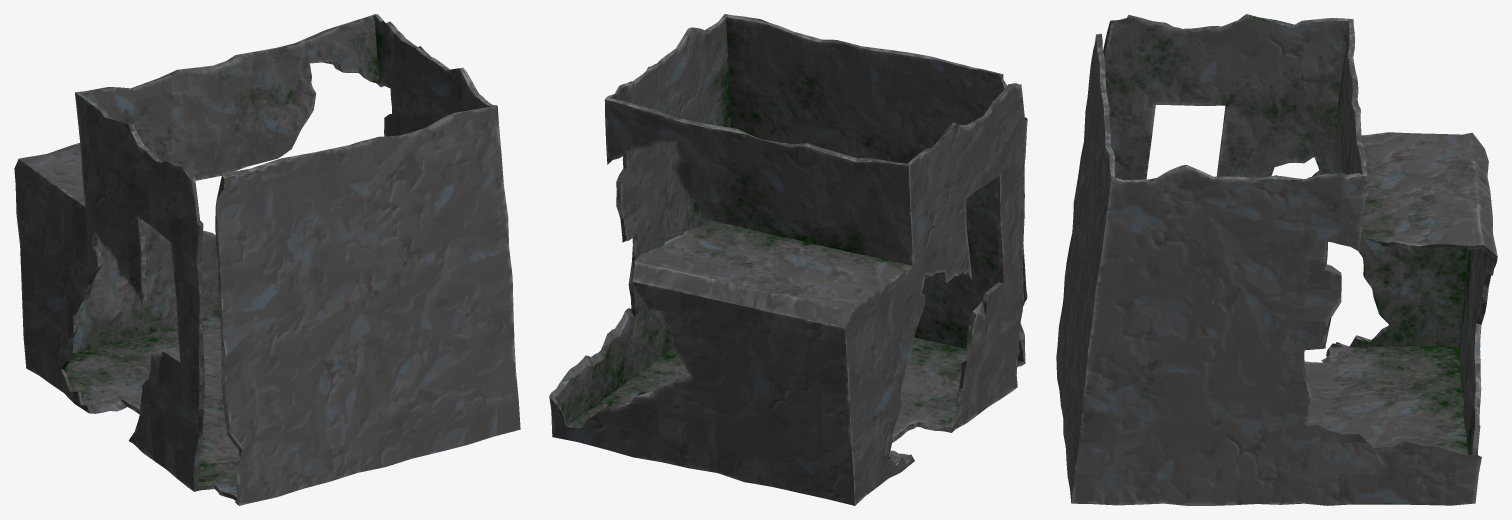
The model's file is Ruin2.fbx.
3 renders of one model, left to right at view 1: azimuth 30°, elevation 25°; view 2: azimuth 150°, elevation 25°; view 3: azimuth 270°, elevation 25°, orthographic. The views are drawn at different scales.
Parts seen in each view (by area): view 1: Ruin 2; view 2: Ruin 2; view 3: Ruin 2.
Boxes of the visible parts, bbox=[...] form: Ruin 2: bbox=[14, 14, 520, 505]; Ruin 2: bbox=[549, 14, 1027, 505]; Ruin 2: bbox=[1056, 14, 1497, 505].
Size of the model in its own units: 50.74 by 50.26 by 59.58.
